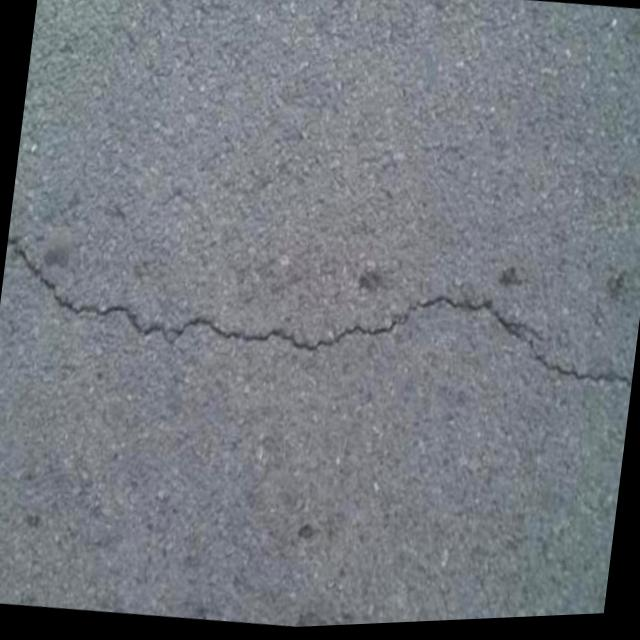Crack: (0, 214, 640, 424)
